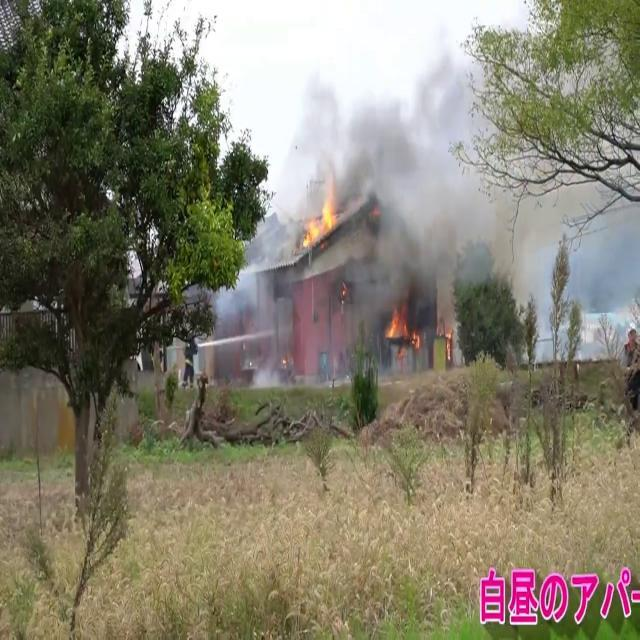Fire: (296, 186, 342, 256), (381, 300, 423, 358)
Smoke: (264, 11, 530, 342)
